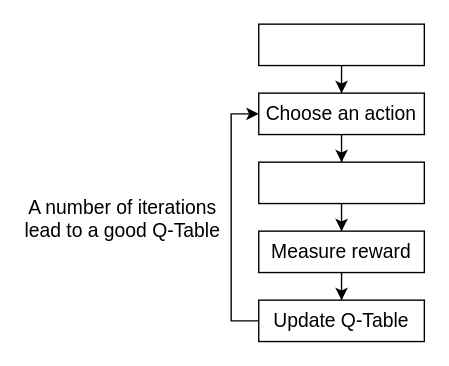
This 449x366 diagram has some shape labels left out. Here are the shapes that lost their labels. From the top down, the box of each, then its label:
(257, 23, 424, 66): Initialize Q-Table
(257, 161, 424, 204): Perform an action
